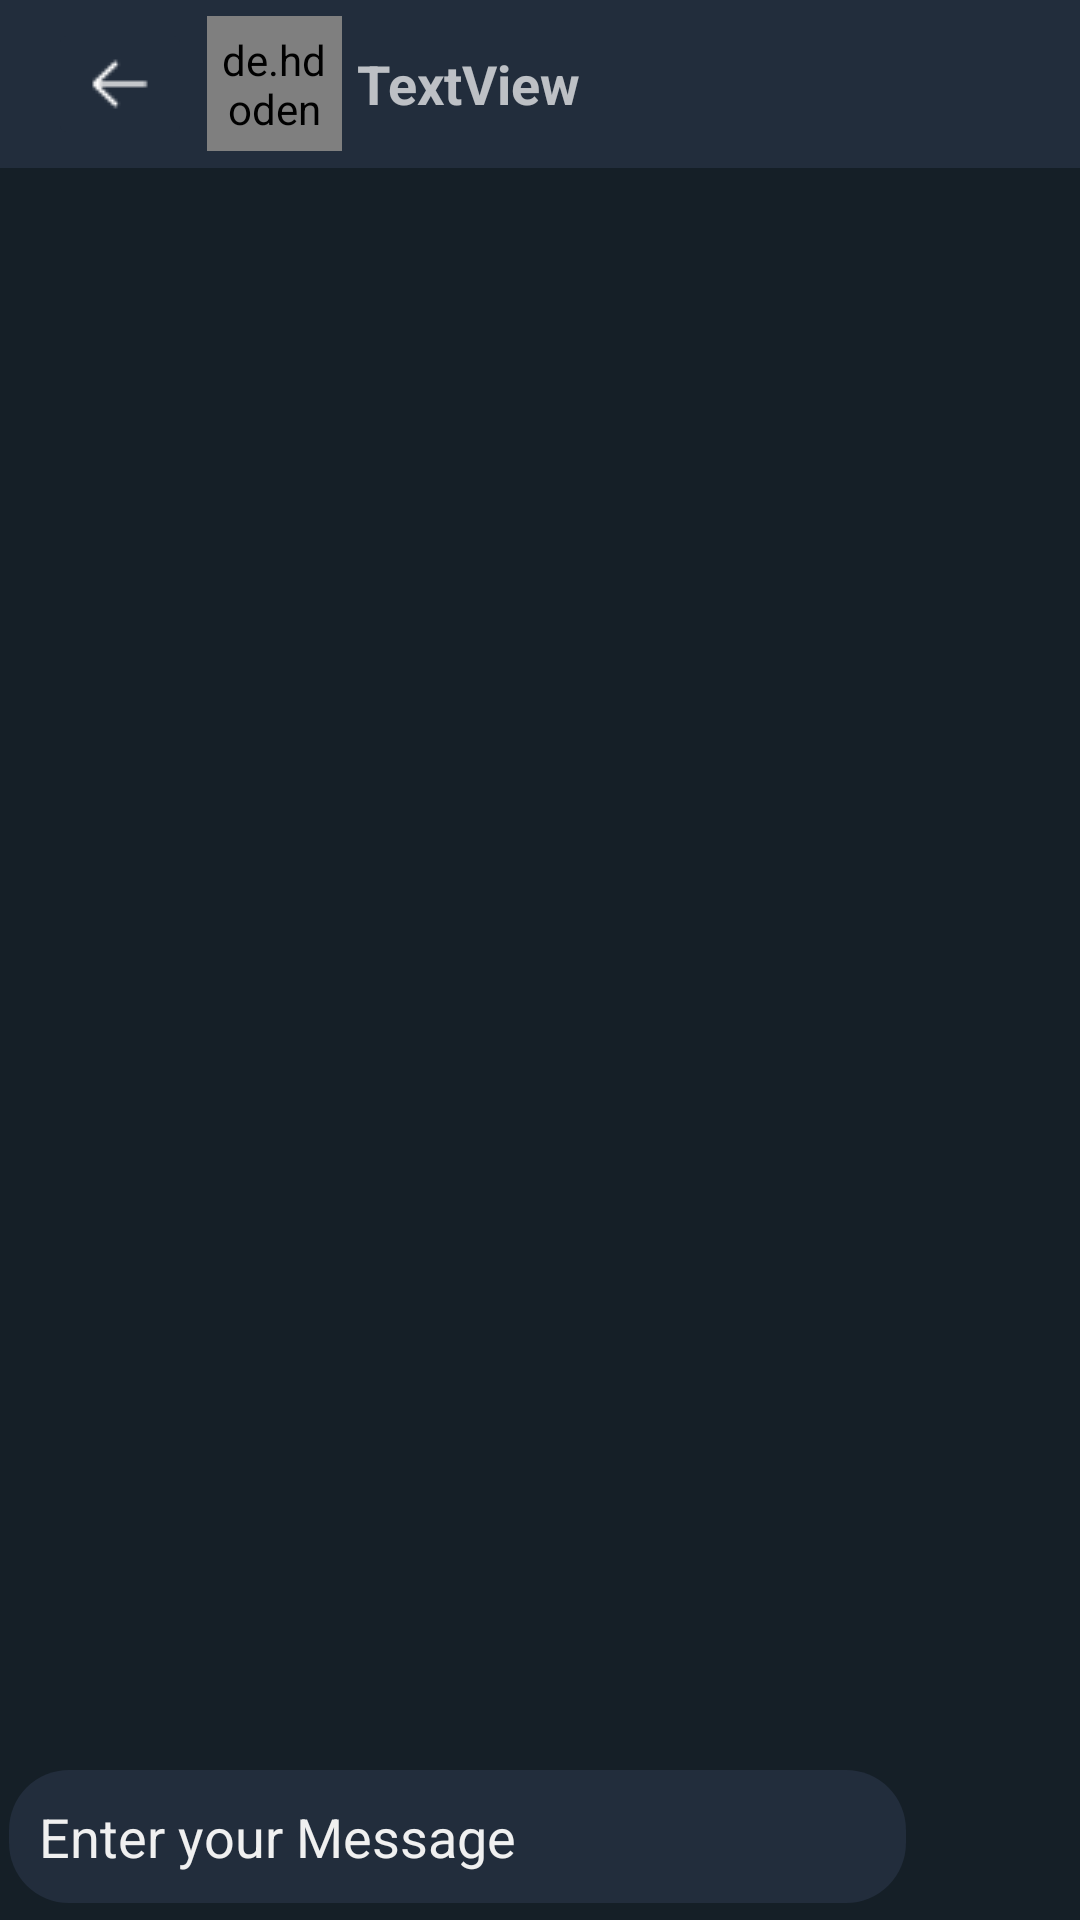

Where to tap for icons on this 1080px x 1920px app screen, as point (x, y):
arrow: point (120, 84)
